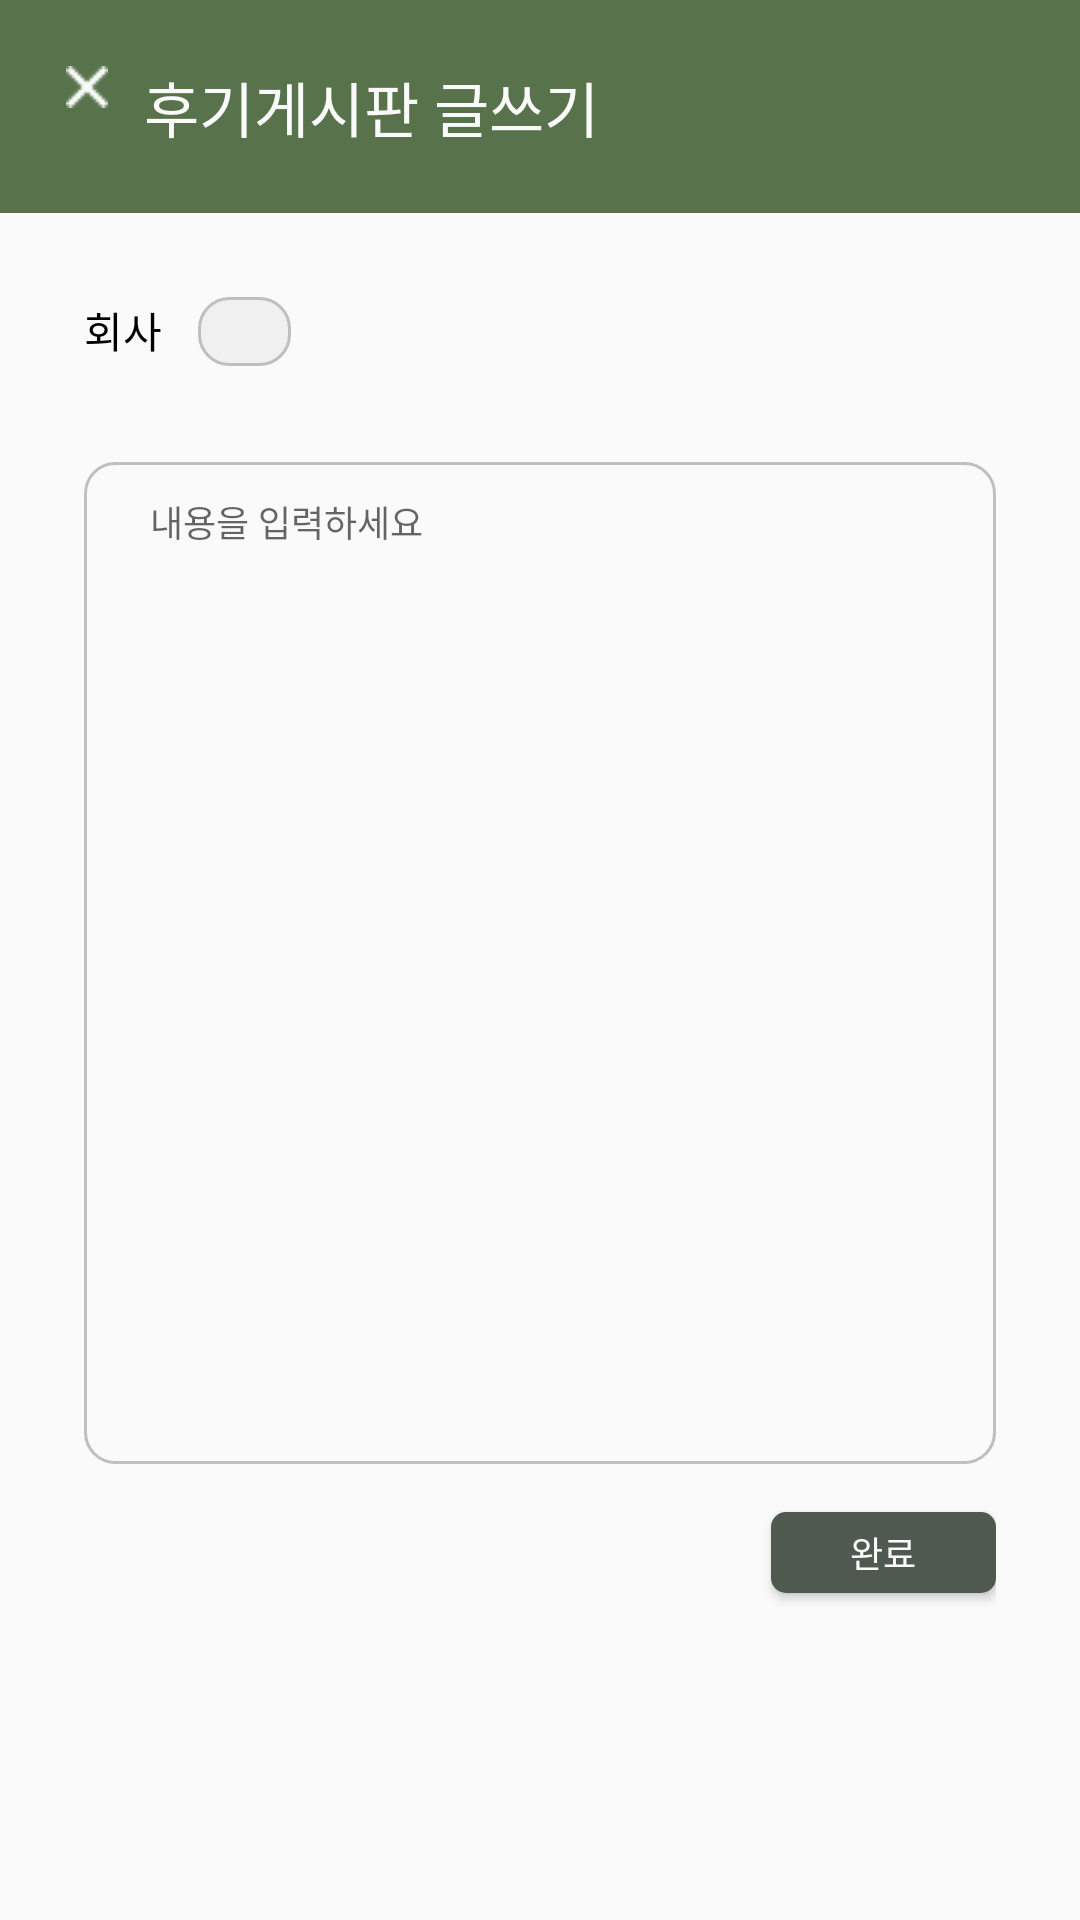

Named icons in this screenshot (1080 × 1920) and their bounding boxes, Rect(x1, y1, x2, y2):
exit: Rect(66, 66, 108, 108)
